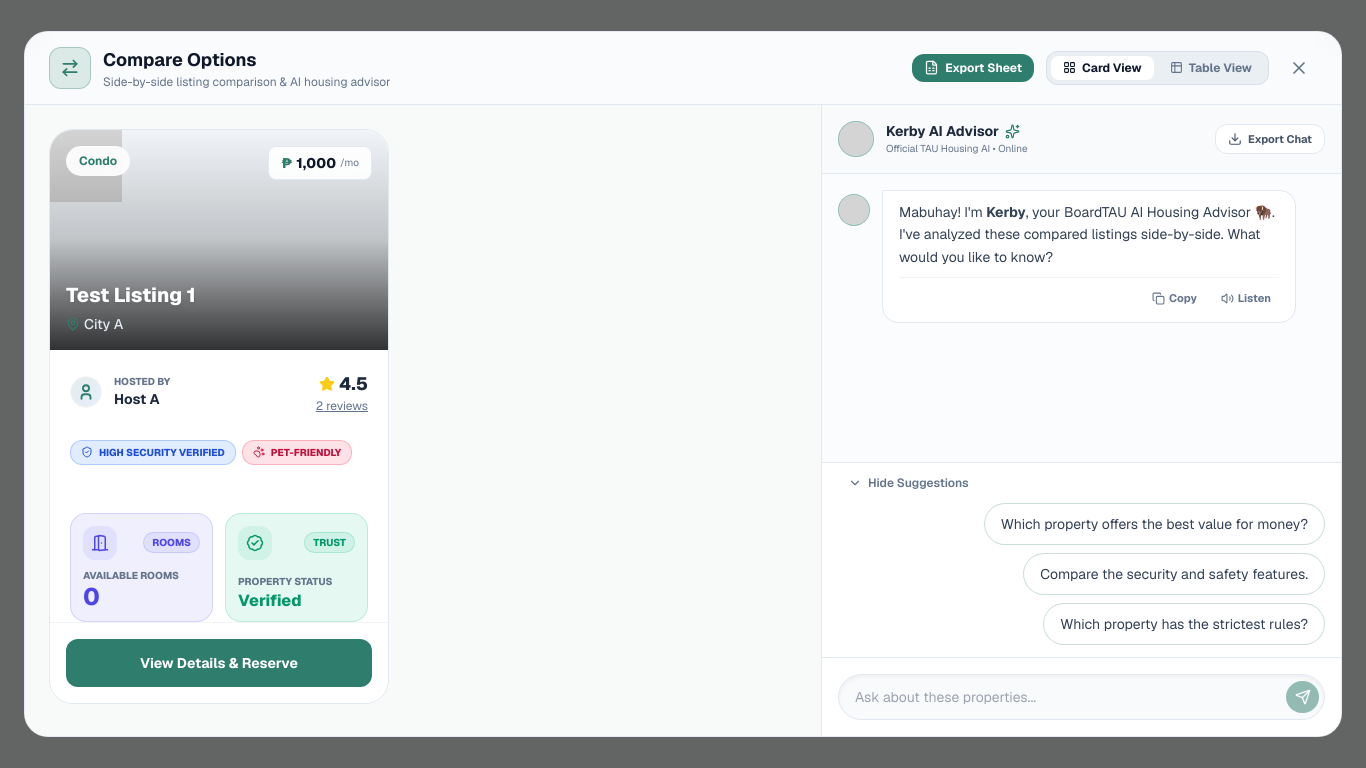
Test: CompareModal › handles suggested prompt click
Click the button "Which property offers the best value for money?" at (1154, 524), box [984, 503, 1325, 545]
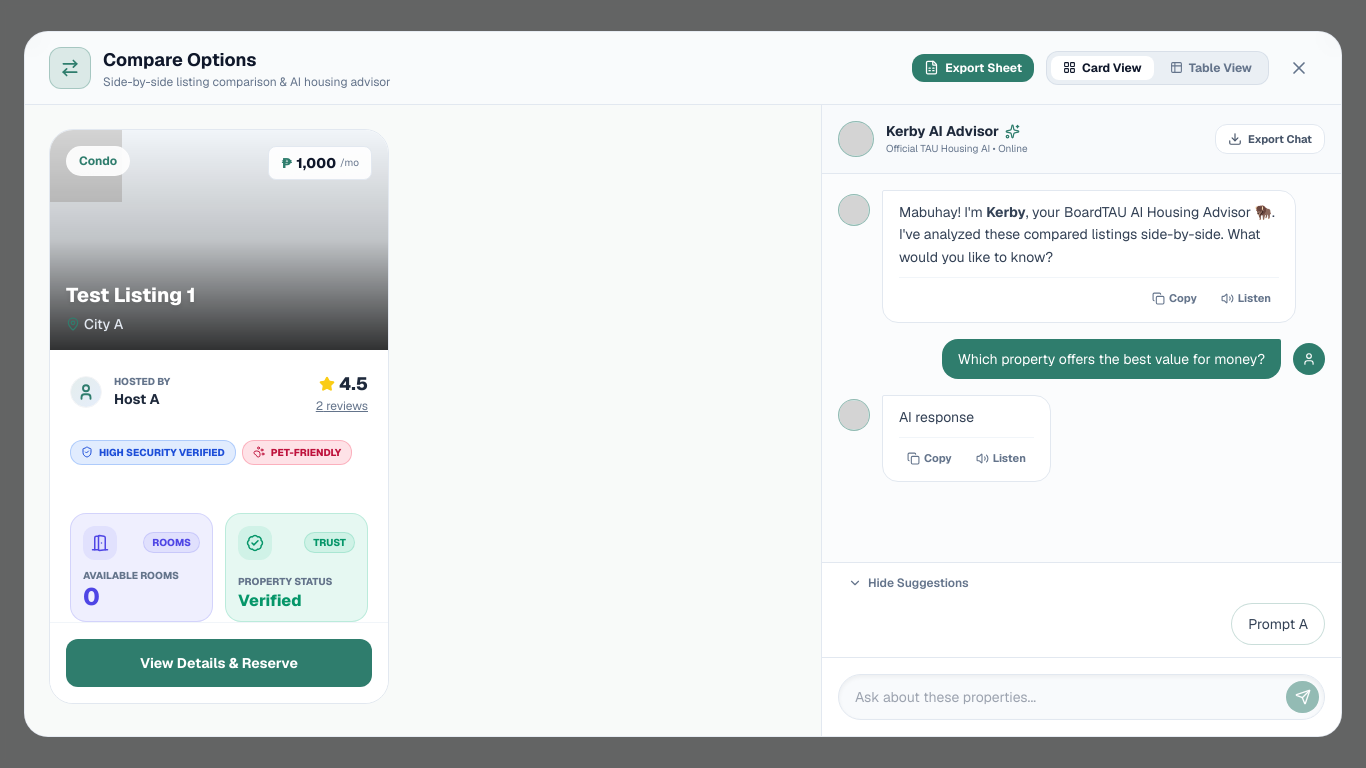
Check: the text "AI response" is shown, box [899, 408, 974, 426]
